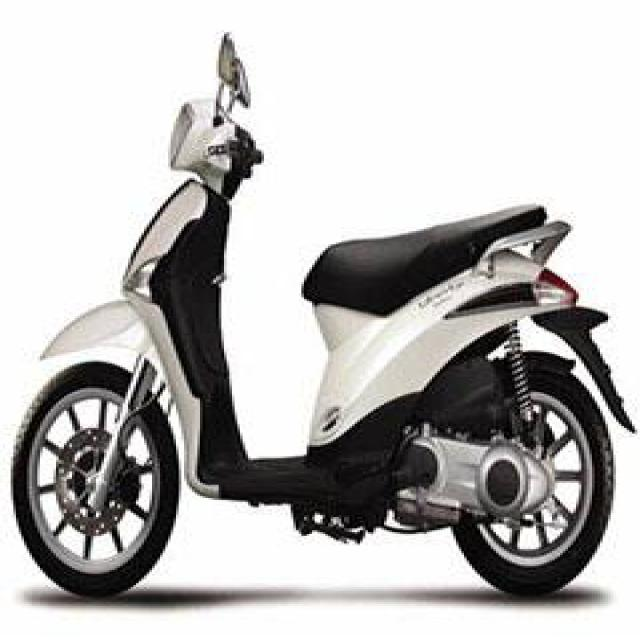motorcycle: (0, 28, 640, 620)
